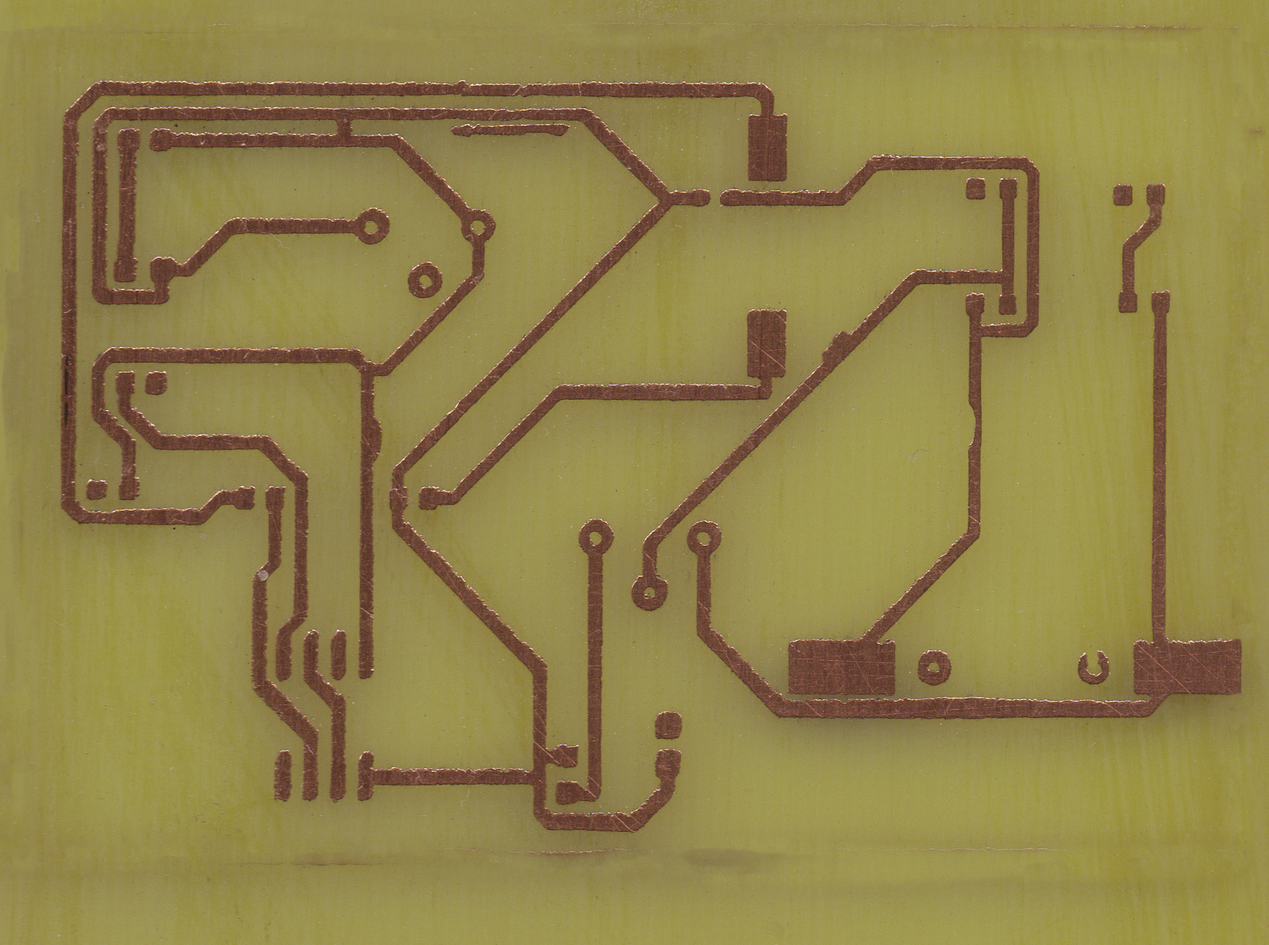missing_hole: (1074, 651, 1113, 686)
mouse_bite: (963, 393, 988, 457)
open_circuit: (695, 188, 733, 210)
short: (329, 102, 360, 149)
spur: (816, 328, 853, 374), (357, 416, 385, 468), (453, 79, 473, 94)
spurious_copper: (447, 121, 572, 137)
